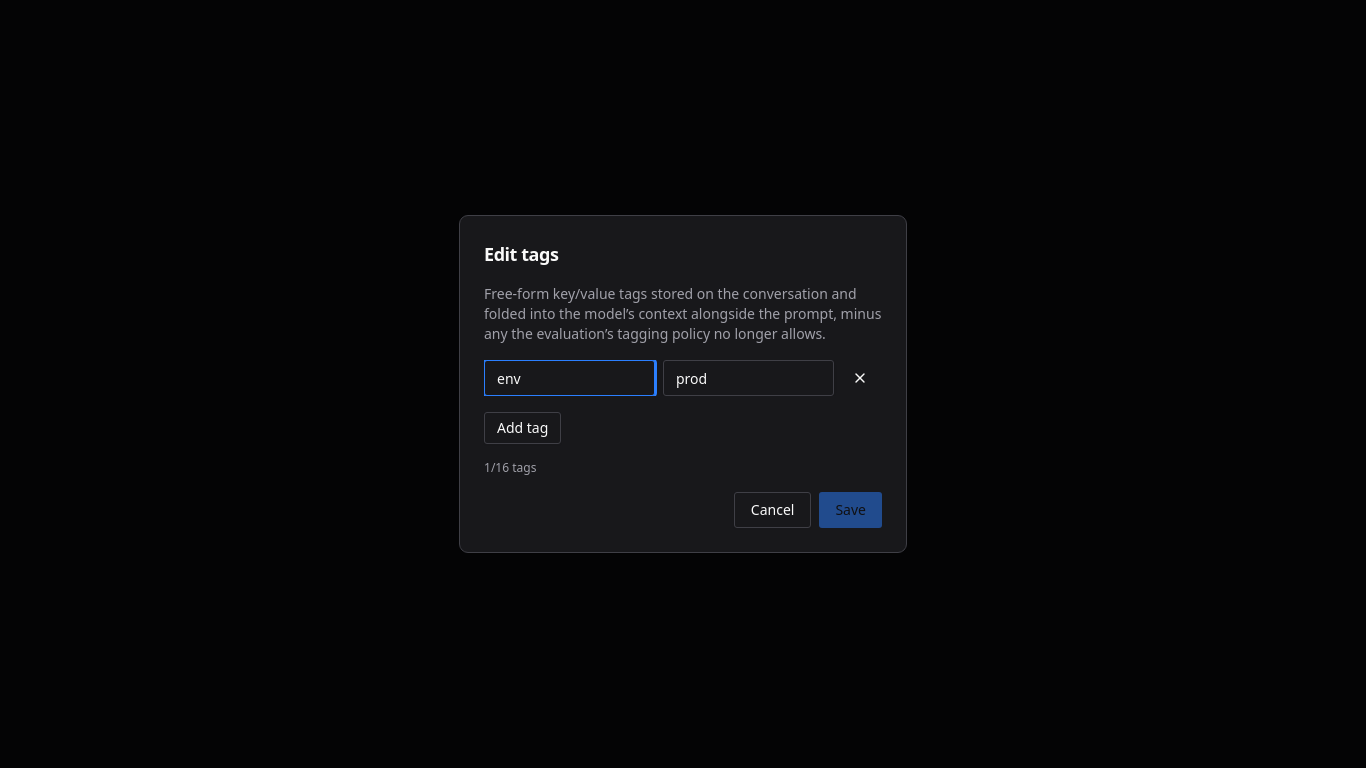
Test: EditTagsDialog — a write in flight › holds the dialog open on Esc and reports the failure inline
The width and height of the screenshot is (1366, 768).
Replace the text in the field named "Tag 1 value" with "staging" at (748, 378), box [663,360,834,396]
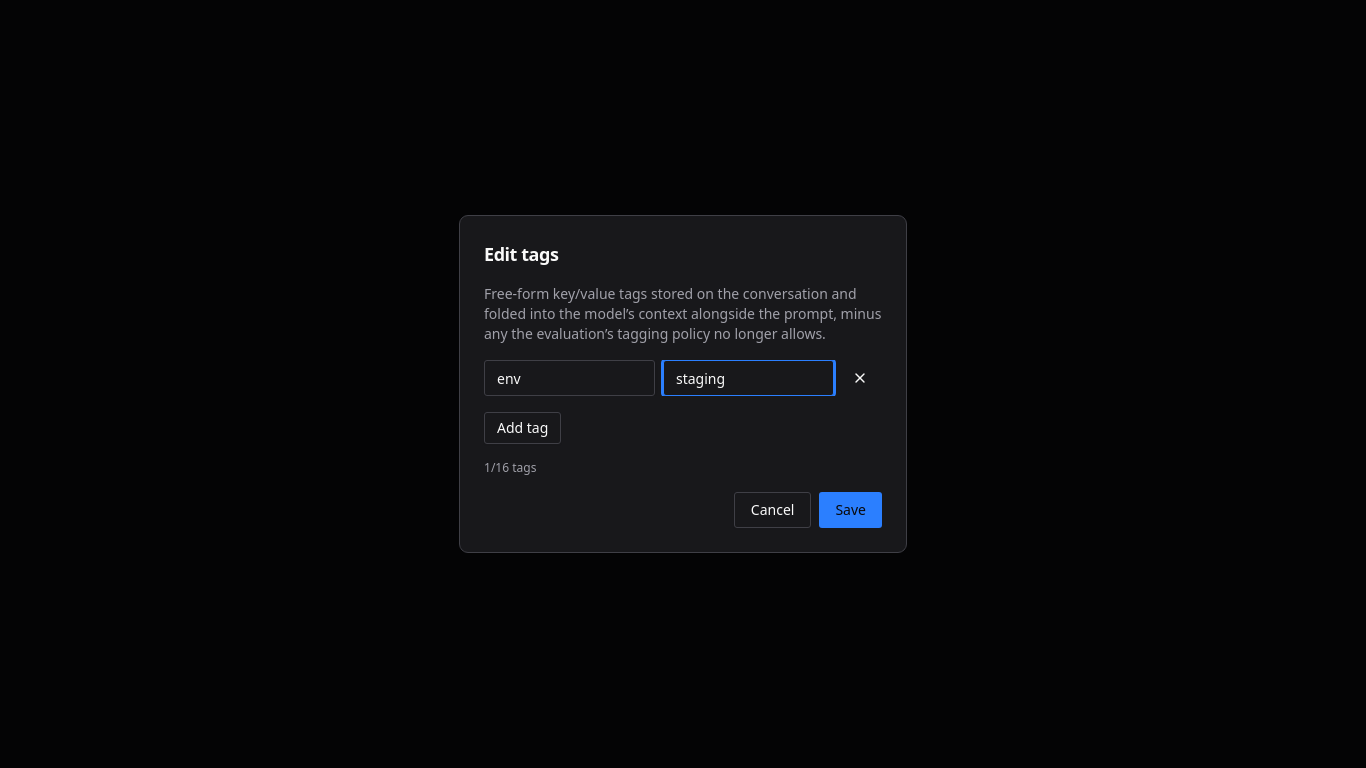
Click the button "Save" at (851, 510), box [819,492,882,528]
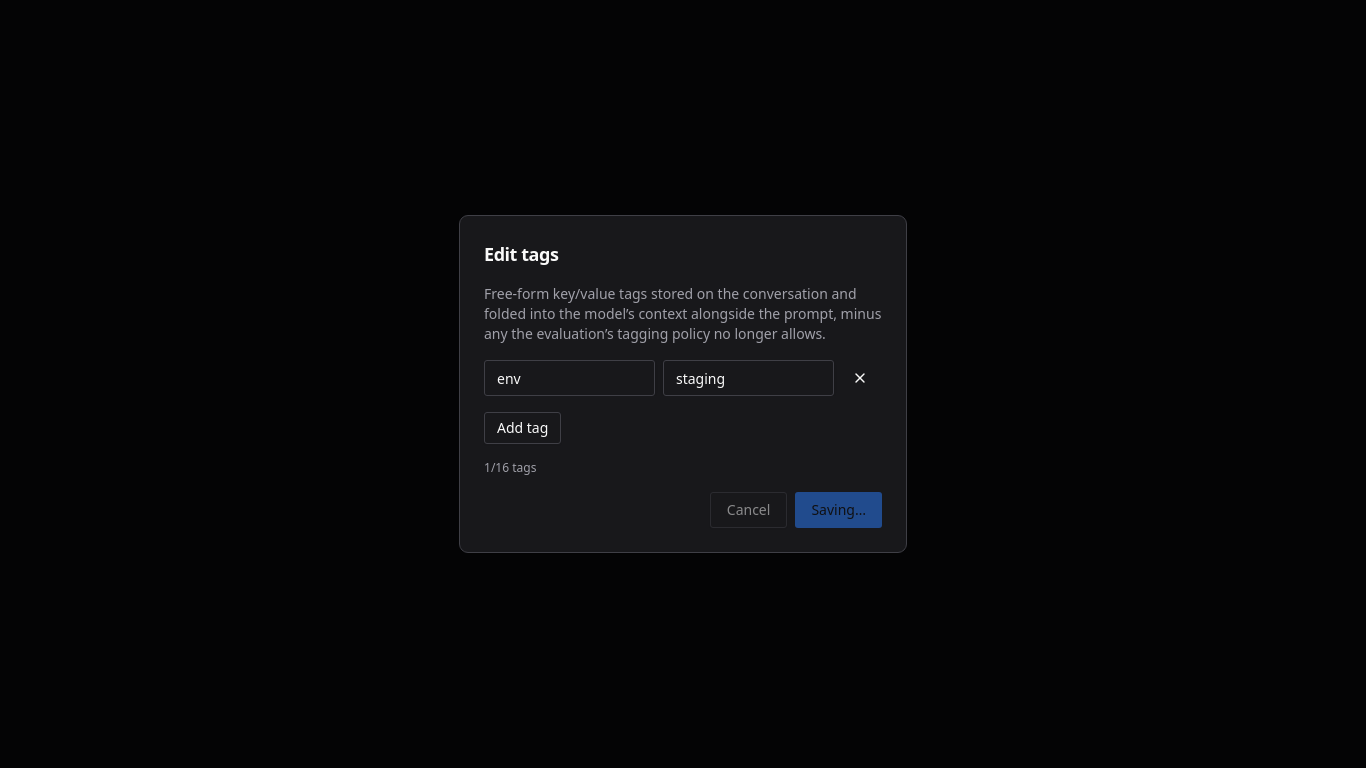
Now the button "Saving…" is disabled, box [795,492,882,528]
Now the button "Cancel" is disabled, box [710,492,787,528]
Press Escape in the dialog, box [459,215,907,553]
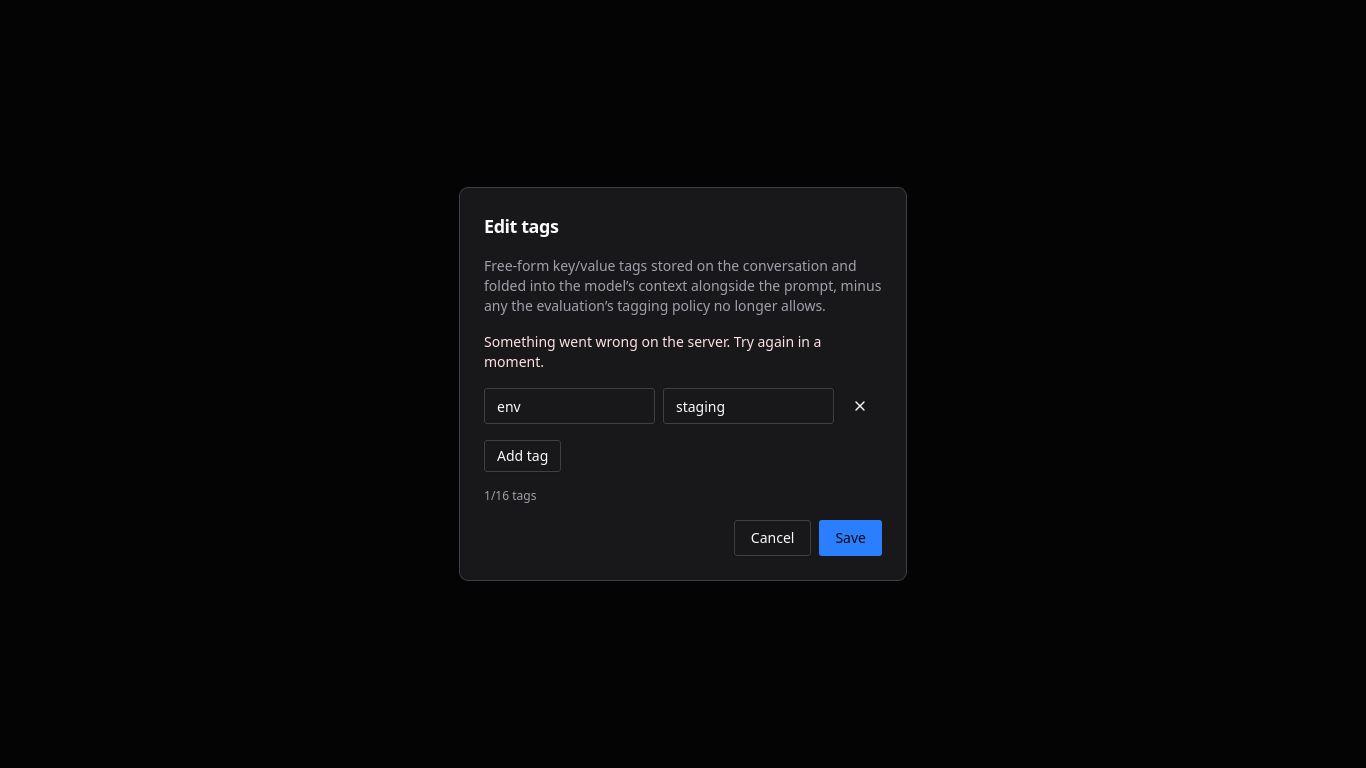
Now the text "Something went wrong on the server. Try again in a moment." is shown, box [484,332,822,371]
